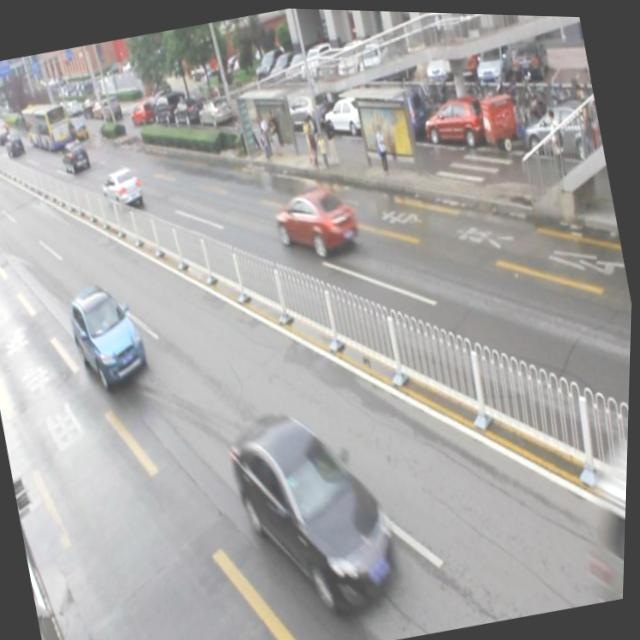car: (223, 393, 412, 624), (64, 277, 153, 393), (271, 179, 364, 265), (100, 164, 147, 213), (61, 138, 94, 177)
